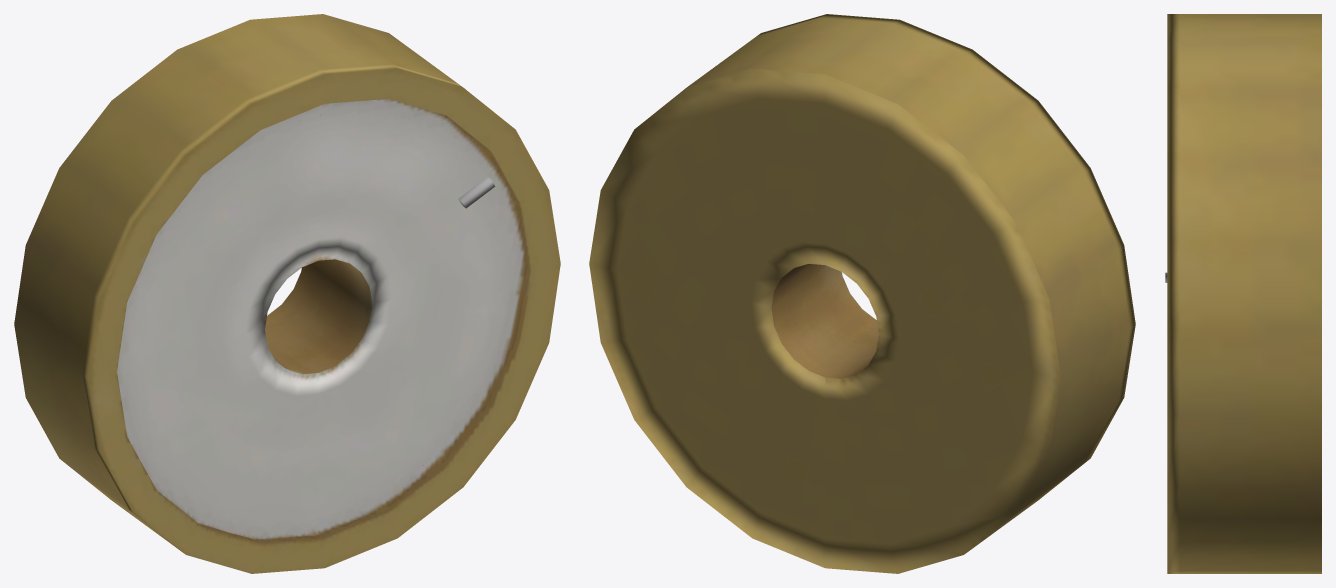
The model's file is clockBROKEN_softEdge.fbx.
3 renders of one model, left to right at view 1: azimuth 30°, elevation 25°; view 2: azimuth 150°, elevation 25°; view 3: azimuth 270°, elevation 25°, orthographic. The views are drawn at different scales.
Visible parts, largest first — view 1: castleClockBROKEN; view 2: castleClockBROKEN; view 3: castleClockBROKEN.
Part boxes in pixels (<box>): castleClockBROKEN: <box>14,14,560,573</box>; castleClockBROKEN: <box>589,14,1135,573</box>; castleClockBROKEN: <box>1165,14,1321,573</box>.
Bounding box in the file's own units: 43.5 × 43.5 × 12.16.
